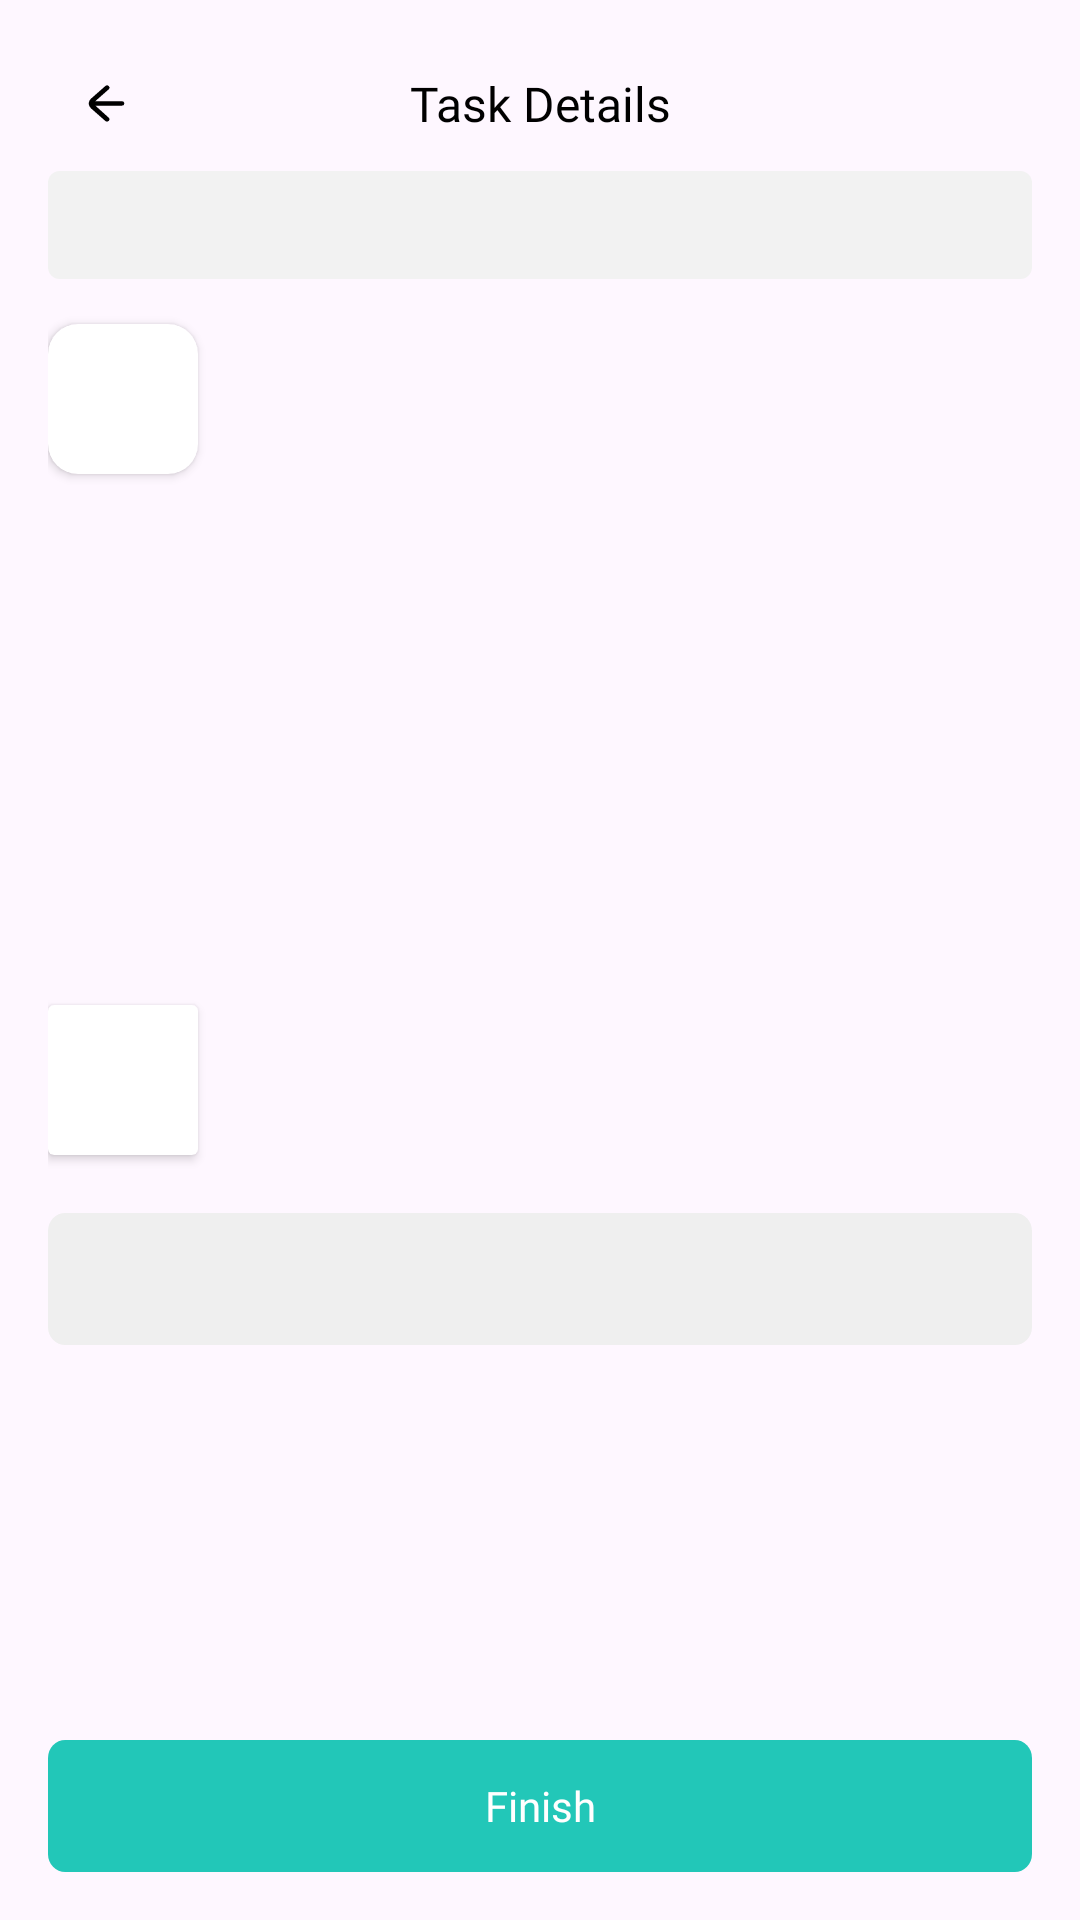

Icon bounding boxes for this 1080px×1920px phone screenshot, format {"left": x1, "top": y1, "right": x2, "bottom": y2}:
back: {"left": 88, "top": 85, "right": 125, "bottom": 122}
